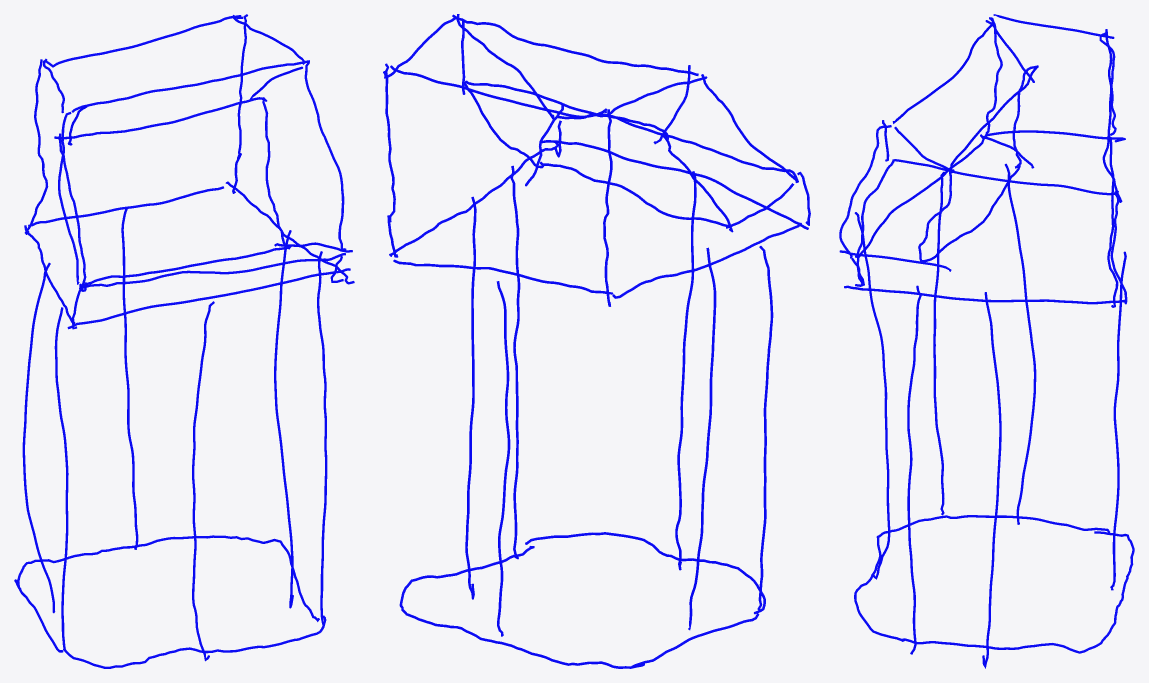
Rendered from scaffold_sketch_P4_trash.glb.
3 renders of one model, left to right at view 1: azimuth 30°, elevation 25°; view 2: azimuth 150°, elevation 25°; view 3: azimuth 270°, elevation 25°, orthographic. The views are drawn at different scales.
Visible parts, largest first — view 1: scaffold_sketch_P4_trash; view 2: scaffold_sketch_P4_trash; view 3: scaffold_sketch_P4_trash.
Boxes of the visible parts, box(x1,y1,x2,y2) form: scaffold_sketch_P4_trash: box(14, 14, 354, 668); scaffold_sketch_P4_trash: box(383, 14, 810, 668); scaffold_sketch_P4_trash: box(839, 14, 1134, 668).
Bounding box in the file's own units: 0.5576 × 1 × 0.4885.
